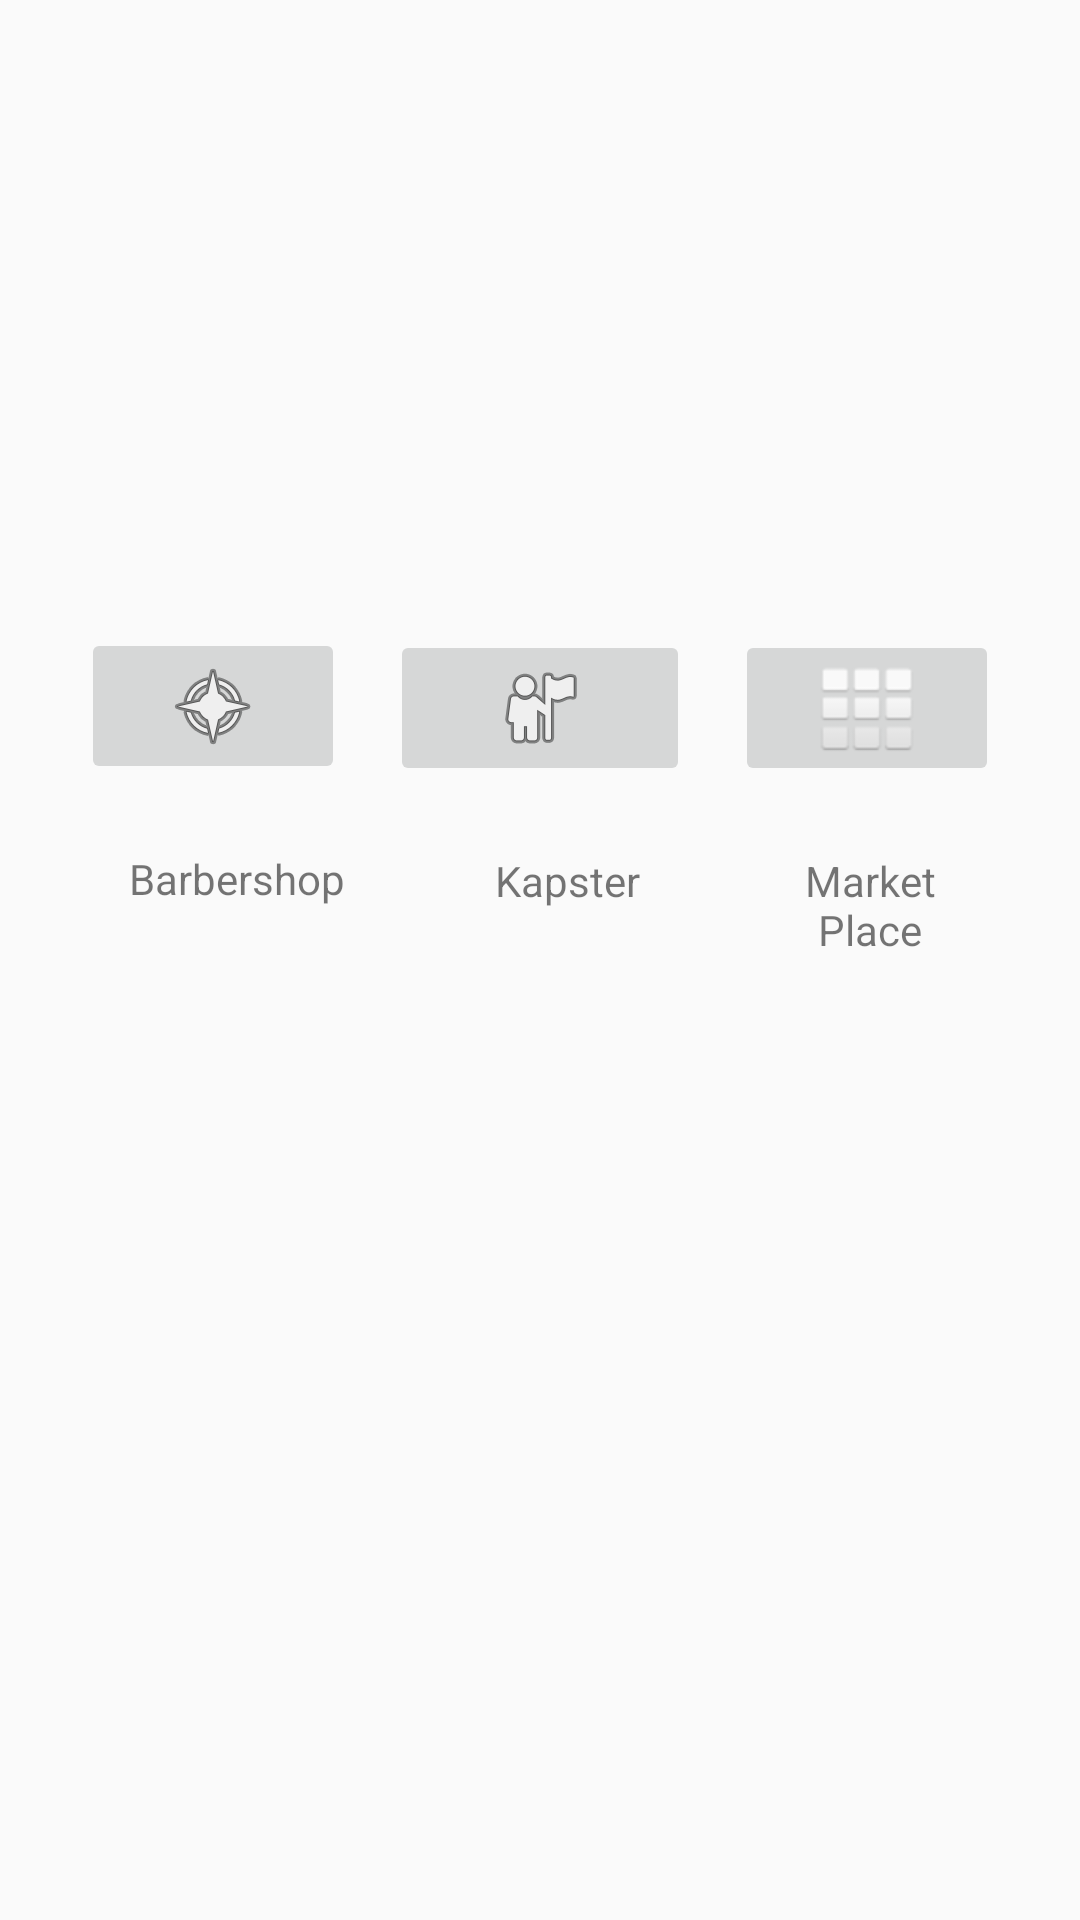

Icon click points for this 1080px×1920px phone screenshot, format (x=x, y=y):
compass: (x=213, y=706)
dialer: (x=867, y=708)
myplaces: (x=540, y=708)
